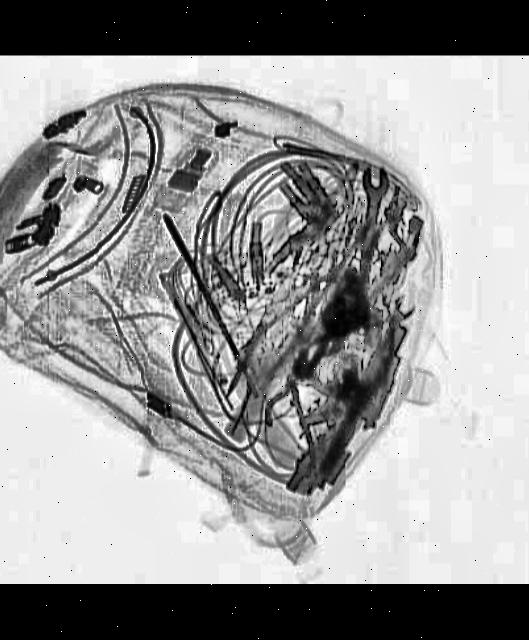Pliers: (259, 372, 316, 454)
Wrench: (345, 296, 418, 415), (350, 168, 388, 274)
